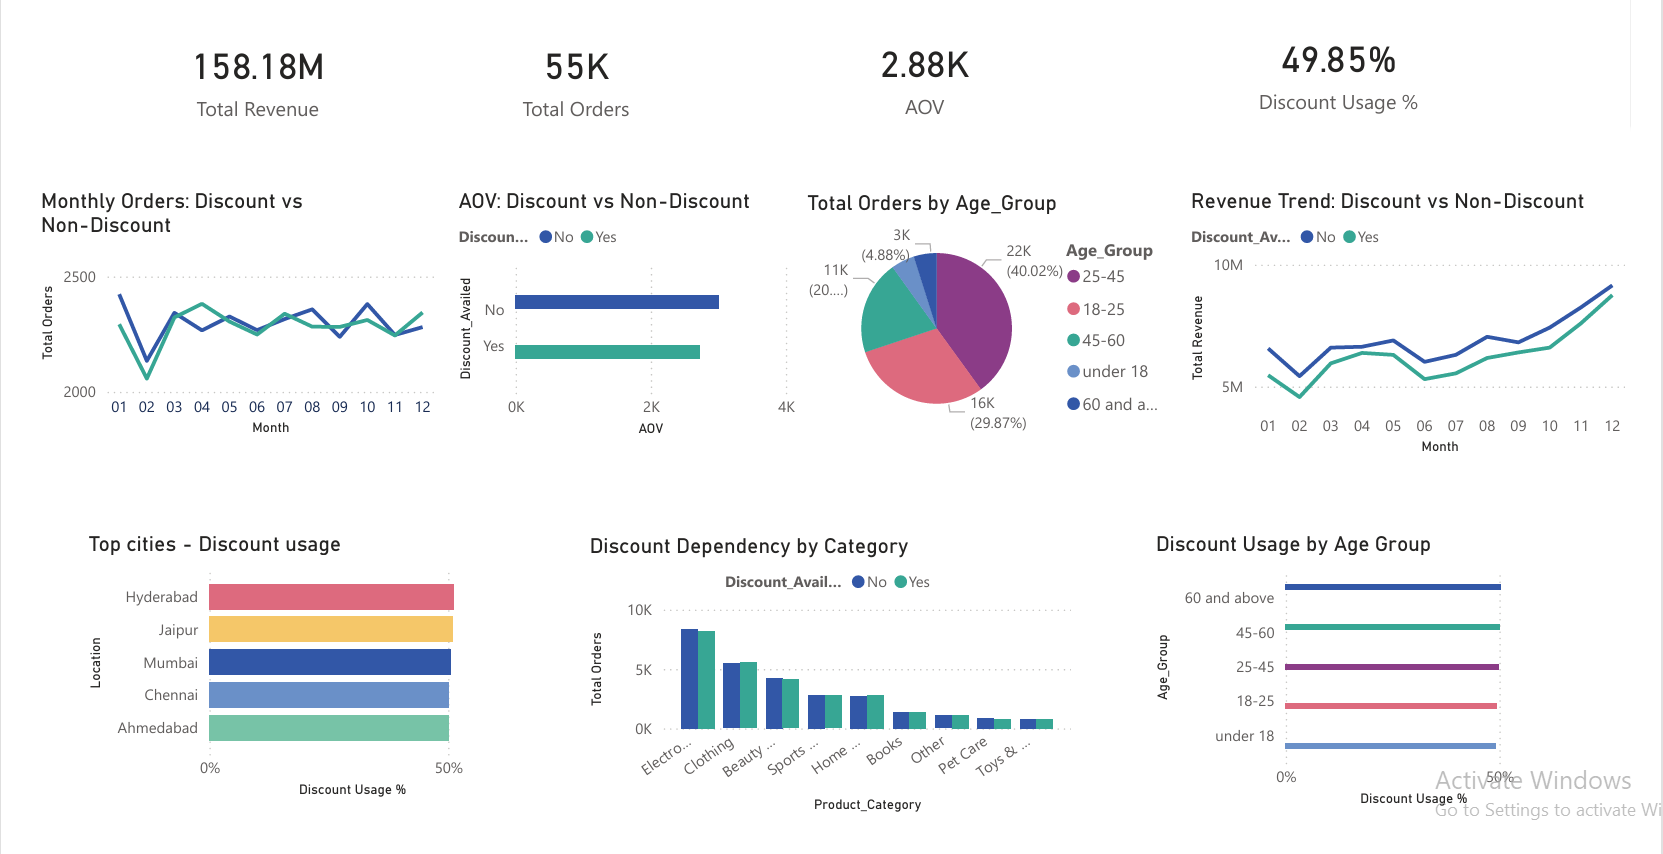

The dashboard page shown, as its layout file describes it:
{"tool":"powerbi","page":{"name":"Page 1","canvas":[1280,720],"ordinal":0},"visuals":[{"type":"card","fields":{"Values":["ecommerce_dataset.Total Revenue"]},"box":[72.8,74.2,216.9,93.7],"z":0},{"type":"card","fields":{"Values":["ecommerce_dataset.Total Orders"]},"box":[337.2,74.2,197.3,93.7],"z":1000},{"type":"card","fields":{"Values":["ecommerce_dataset.Discount Usage %"]},"box":[954.3,64.4,183.3,103.5],"z":2000},{"type":"card","fields":{"Values":["ecommerce_dataset.AOV"]},"box":[615.7,71.4,198.7,96.5],"z":3000},{"type":"lineChart","title":"Monthly Orders: Discount vs Non-Discount","fields":{"Category":["ecommerce_dataset.Month"],"Y":["ecommerce_dataset.Total Orders"],"Series":["ecommerce_dataset.Discount_Availed"]},"box":[2.8,209.9,324.6,202.9],"z":4000},{"type":"lineChart","title":"Revenue Trend: Discount vs Non-Discount","fields":{"Y":["ecommerce_dataset.Total Revenue"],"Series":["ecommerce_dataset.Discount_Availed"],"Category":["ecommerce_dataset.Month"]},"box":[923.5,209.9,356.8,218.3],"z":5000},{"type":"clusteredBarChart","title":"AOV: Discount vs Non-Discount","fields":{"Category":["ecommerce_dataset.Discount_Availed"],"Y":["ecommerce_dataset.AOV"],"Series":["ecommerce_dataset.Discount_Availed"]},"box":[337.2,209.9,278.4,202.9],"z":6000},{"type":"clusteredBarChart","title":"Discount Usage by Age Group","fields":{"Category":["ecommerce_dataset.Age_Group"],"Y":["ecommerce_dataset.Discount Usage %"],"Series":["ecommerce_dataset.Age_Group"]},"box":[895.5,484.1,330.2,225.3],"z":7000},{"type":"clusteredColumnChart","title":"Discount Dependency by Category","fields":{"Category":["ecommerce_dataset.Product_Category"],"Y":["ecommerce_dataset.Total Orders"],"Series":["ecommerce_dataset.Discount_Availed"]},"box":[442.2,485.5,394.6,228.1],"z":8000},{"type":"barChart","title":"Top cities - Discount usage","fields":{"Category":["ecommerce_dataset.Location"],"Y":["ecommerce_dataset.Discount Usage %"],"Series":["ecommerce_dataset.Location"]},"box":[41.1,483.9,348.3,217.7],"z":9000},{"type":"pieChart","fields":{"Category":["ecommerce_dataset.Age_Group"],"Y":["ecommerce_dataset.Total Orders"]},"box":[615.7,211.3,307.8,202.9],"z":10000}]}

Visuals, with their boxes on the page's 1280x720 design canvas (x1, y1, x2, y2). These are canvas units, not pixel positions in the 1663x854 screenshot, which may show the page scaled, cropped or inside an application window:
card - ecommerce_dataset.Total Revenue: region(73, 74, 290, 168)
card - ecommerce_dataset.Total Orders: region(337, 74, 534, 168)
card - ecommerce_dataset.Discount Usage %: region(954, 64, 1138, 168)
card - ecommerce_dataset.AOV: region(616, 71, 814, 168)
"Monthly Orders: Discount vs Non-Discount" lineChart: region(3, 210, 327, 413)
"Revenue Trend: Discount vs Non-Discount" lineChart: region(924, 210, 1280, 428)
"AOV: Discount vs Non-Discount" clusteredBarChart: region(337, 210, 616, 413)
"Discount Usage by Age Group" clusteredBarChart: region(896, 484, 1226, 709)
"Discount Dependency by Category" clusteredColumnChart: region(442, 486, 837, 714)
"Top cities - Discount usage" barChart: region(41, 484, 389, 702)
pieChart - ecommerce_dataset.Age_Group x ecommerce_dataset.Total Orders: region(616, 211, 924, 414)
